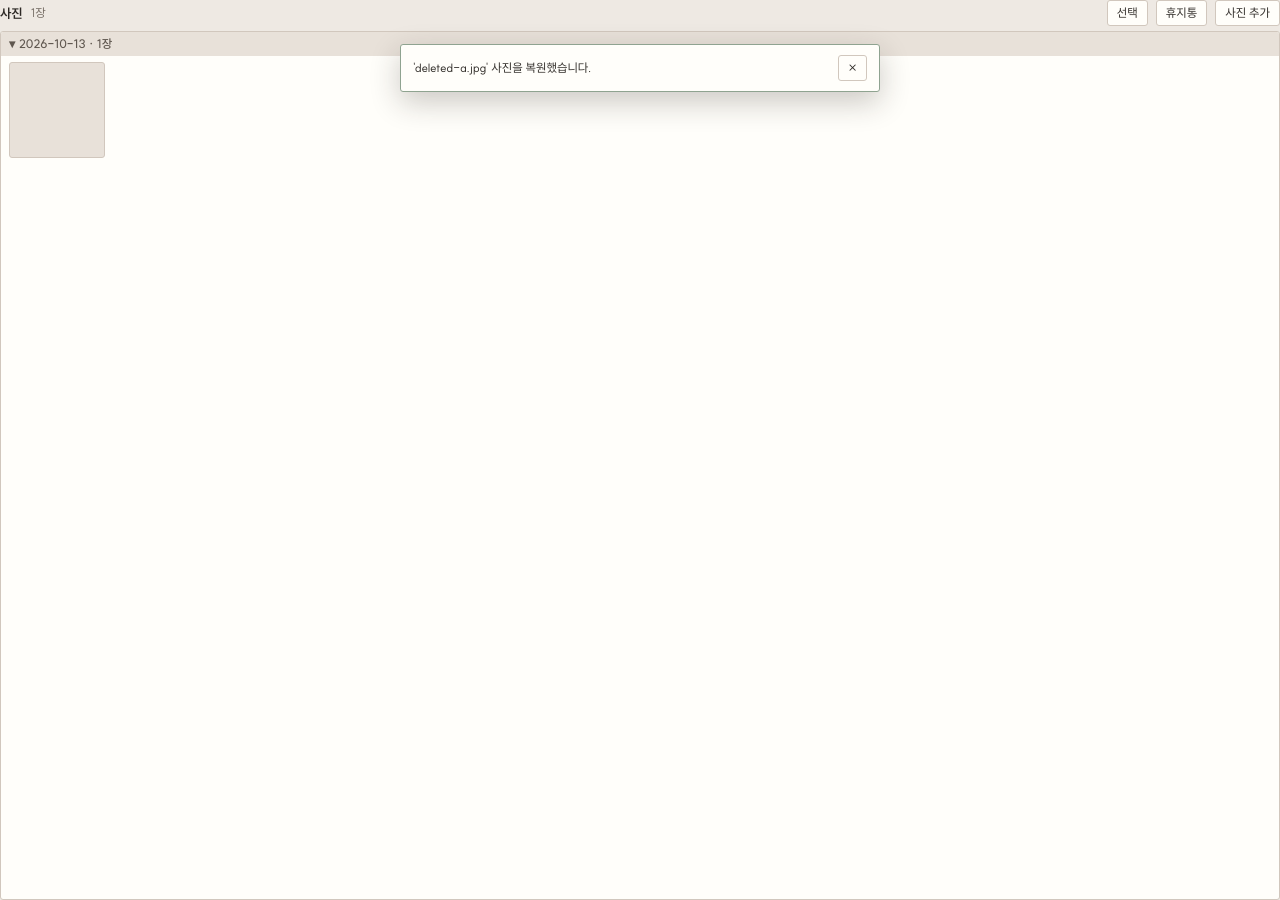
Test case: 고객 사진 휴지통 (CRM-15) › 복원 대상이 이미 없으면(404) 안내하고 목록을 다시 읽는다
Click the button "휴지통".
click(1182, 13)  # box [1156,0,1207,26]
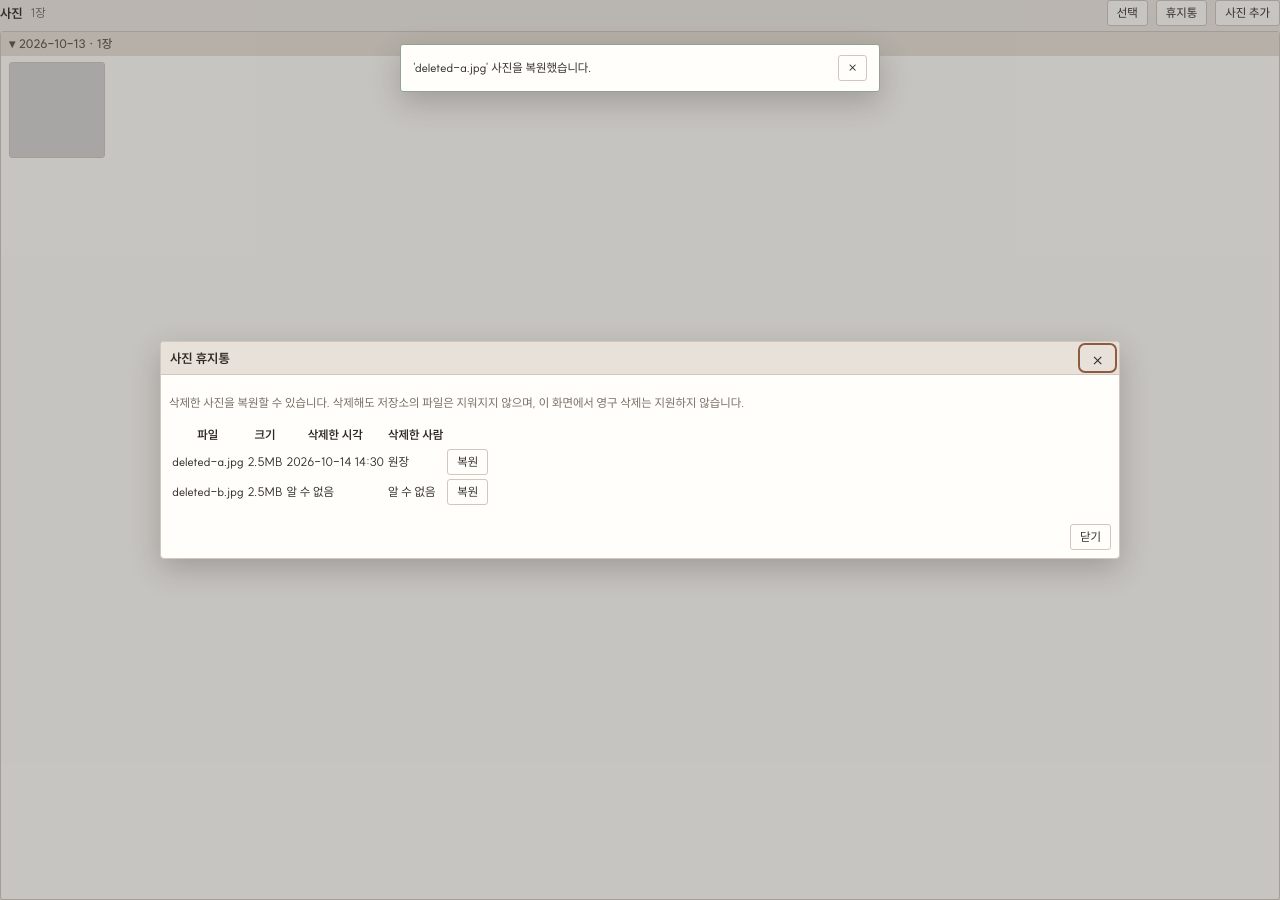
Click the button with aria-label "deleted-a.jpg 복원".
click(468, 462)  # box [447,449,488,475]
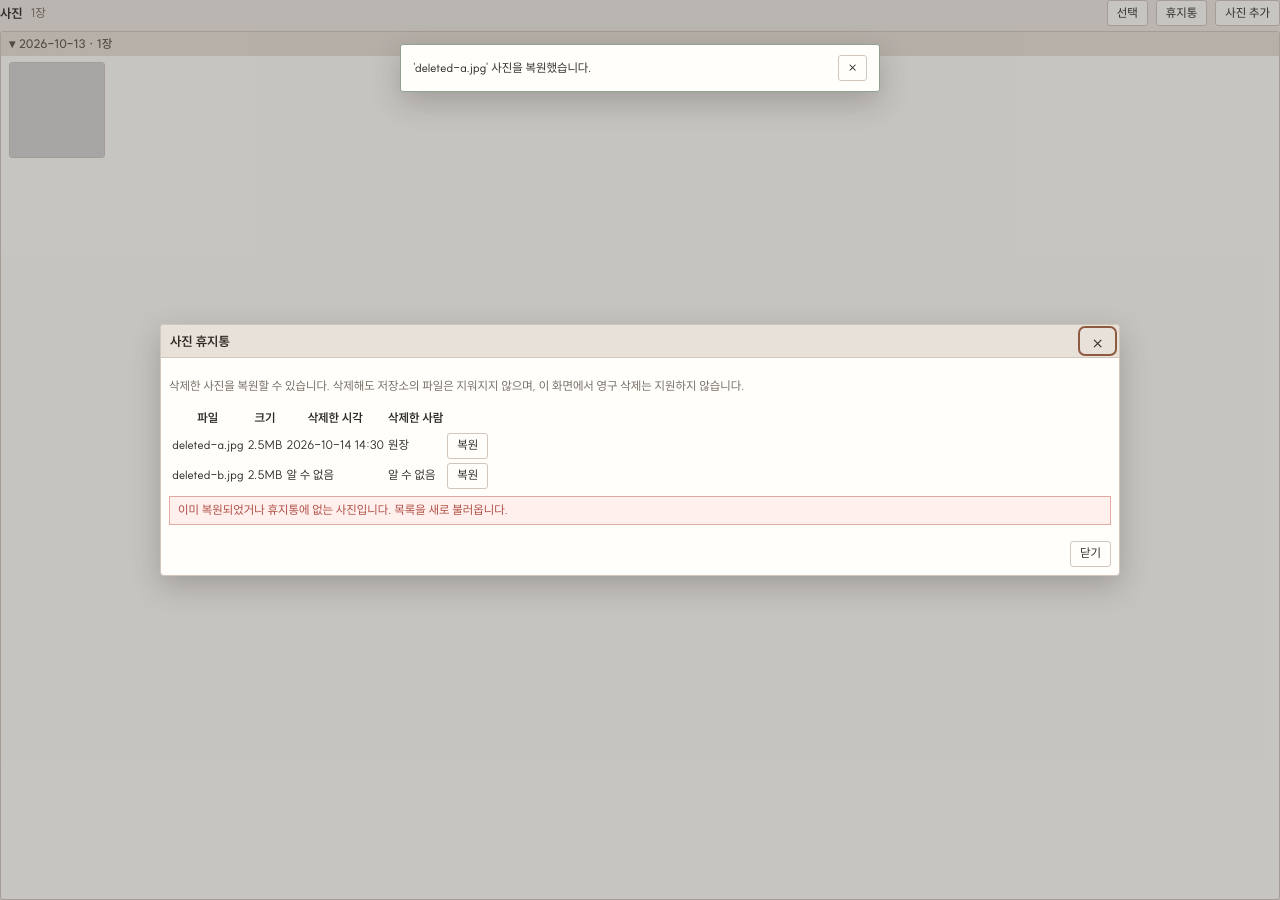
Expected: the message "이미 복원되었거나 휴지통에 없는 사진입니다. 목록을 새로 불러옵니다." is shown, [169,496,1111,525]
